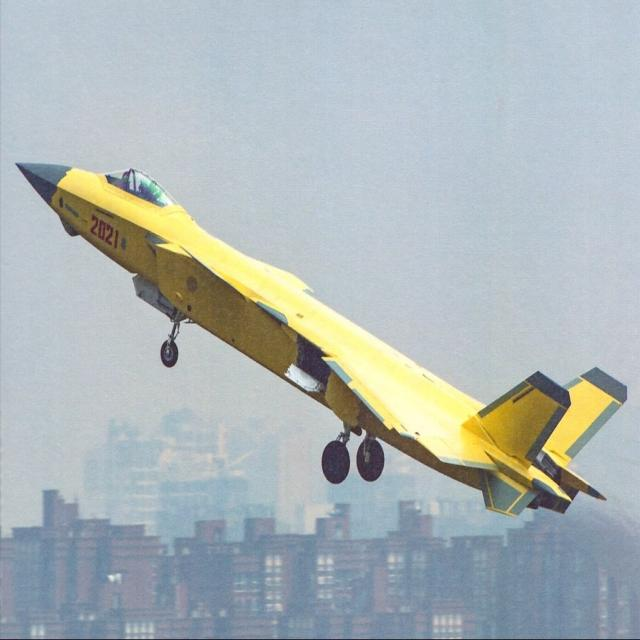MIL_Plane: (15, 162, 628, 518)
